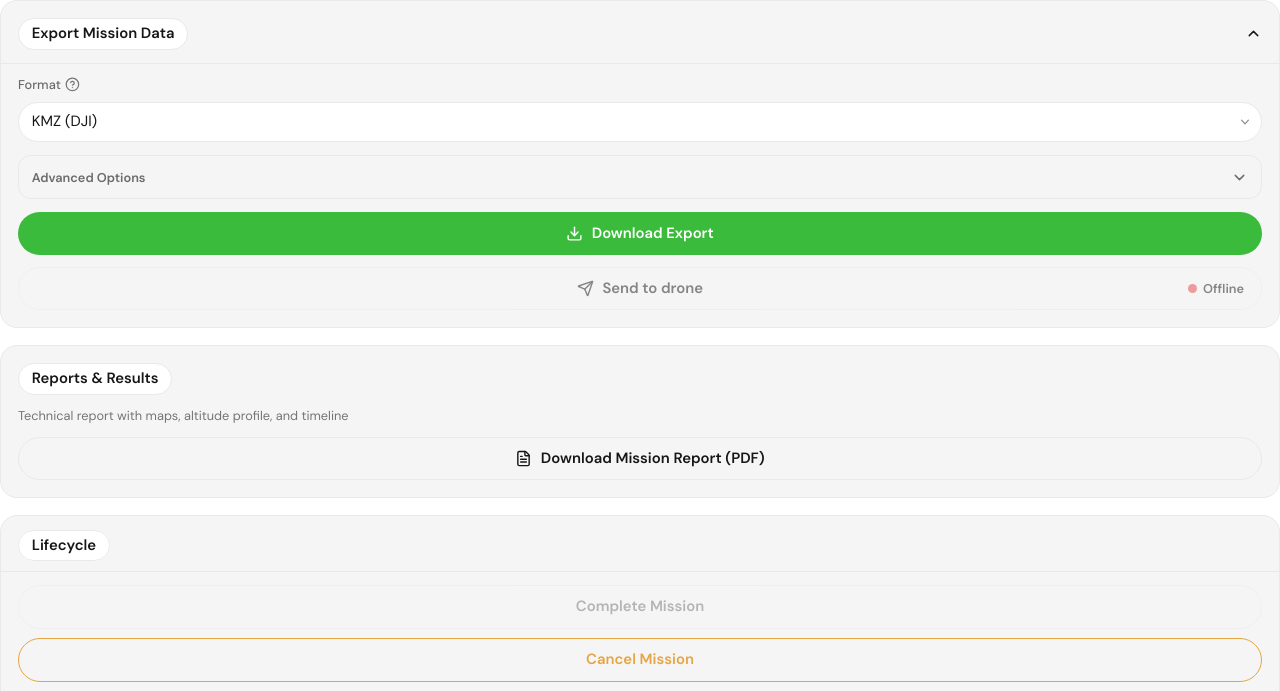
Scenario: ExportPanel - wpml fallback modal › intercepts KMZ download when drone is unmapped and renders the fallback modal
Select "KMZ (DJI)" in the dropdown with test id "format-select" at (640, 122), box 18,102 -> 1262,142
Click the button with test id "download-export-btn".
click(640, 233)  # box 18,212 -> 1262,254
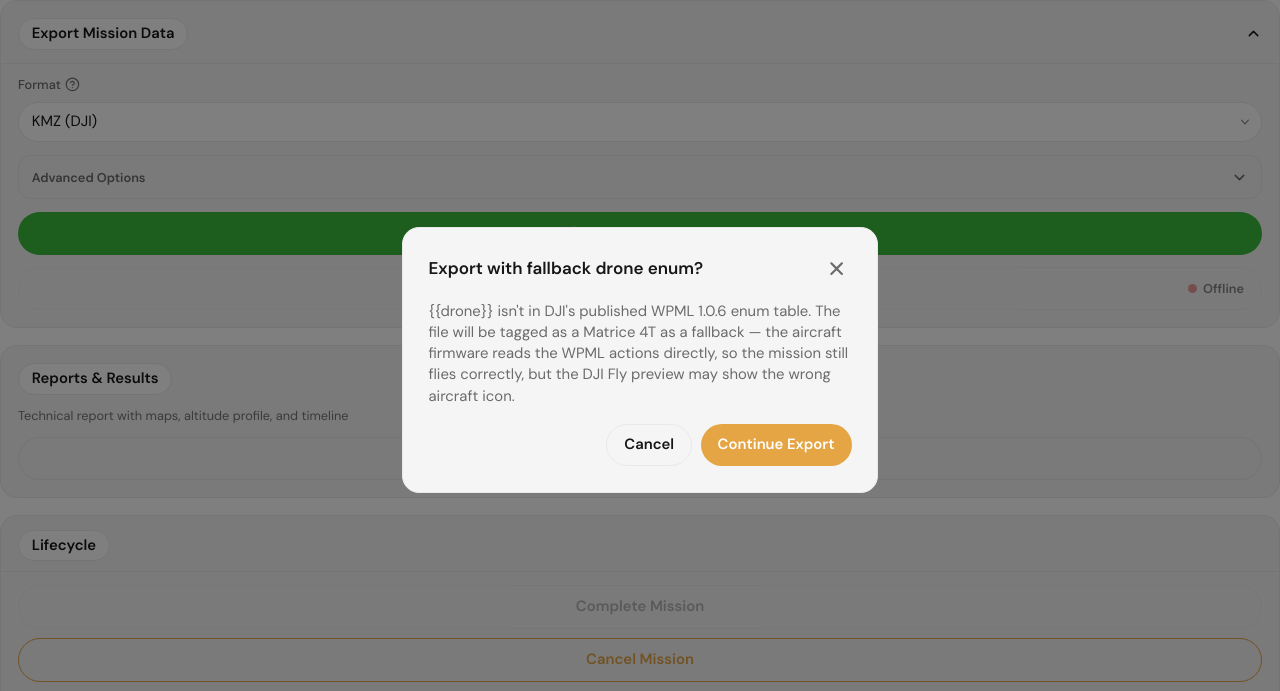
Now the heading "Export with fallback drone enum?" is shown, box 428,256 -> 703,281
